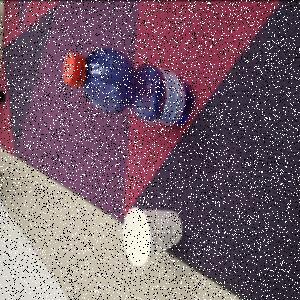Cup: (124, 207, 185, 267)
Plastic-bottle: (64, 47, 196, 127)
